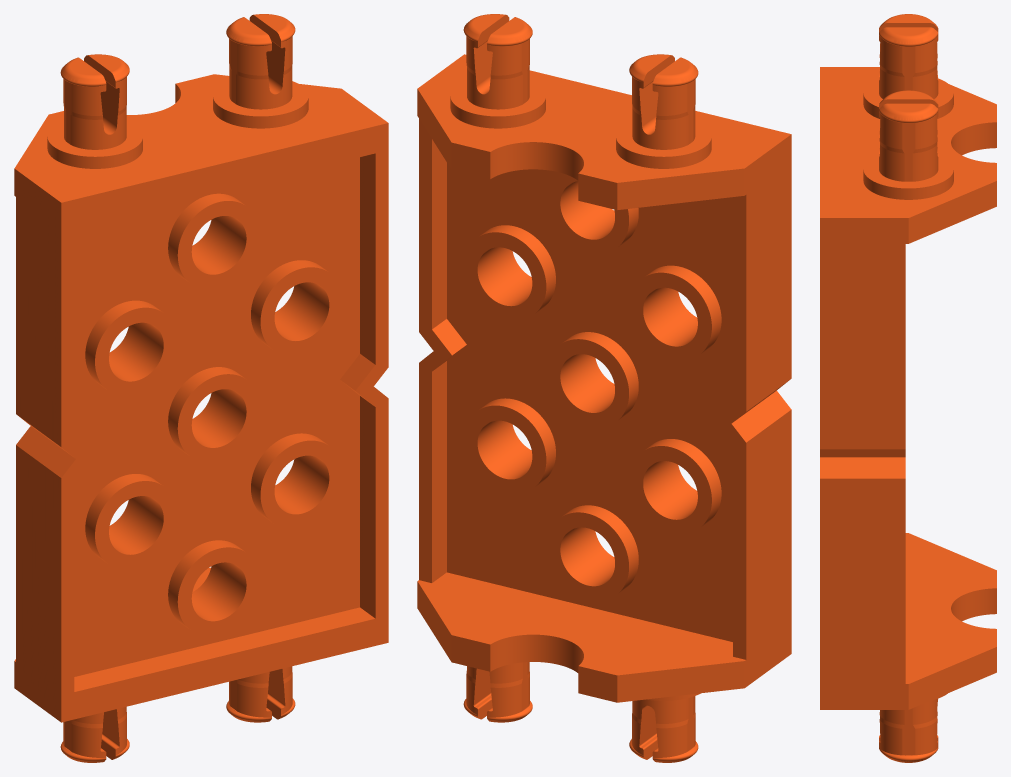
The picture shows the model from 3 angles, left to right: view 1: azimuth 30°, elevation 25°; view 2: azimuth 150°, elevation 25°; view 3: azimuth 270°, elevation 25°; orthographic projection. The views are drawn at different scales.
Visible parts, largest first — view 1: 228-2500-277; view 2: 228-2500-277; view 3: 228-2500-277.
Part boxes in pixels (x1,y1,x2,y2): 228-2500-277: [14, 14, 388, 762]; 228-2500-277: [417, 14, 791, 762]; 228-2500-277: [820, 14, 996, 762].
Size of the model in its own units: 0.0251 by 0.0504 by 0.0124.
